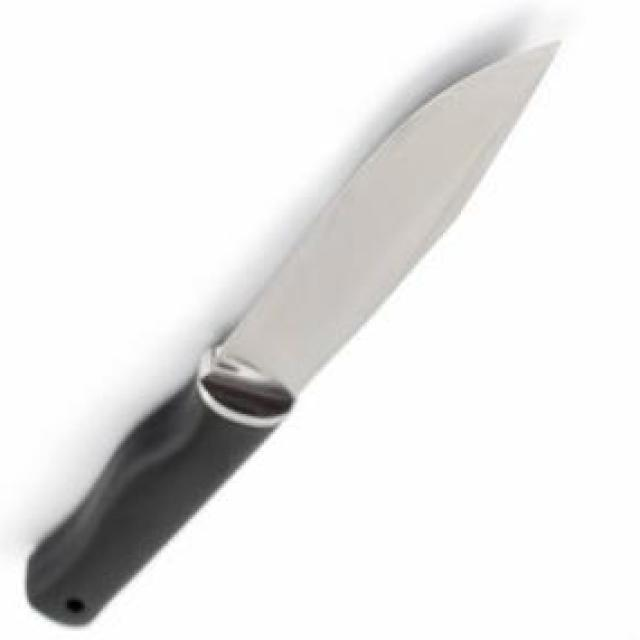knife: (22, 32, 566, 629)
